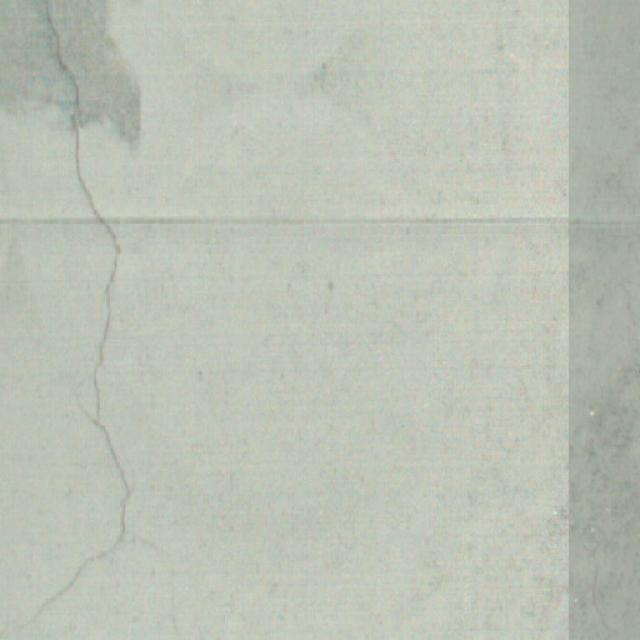Network: (2, 8, 195, 640)
